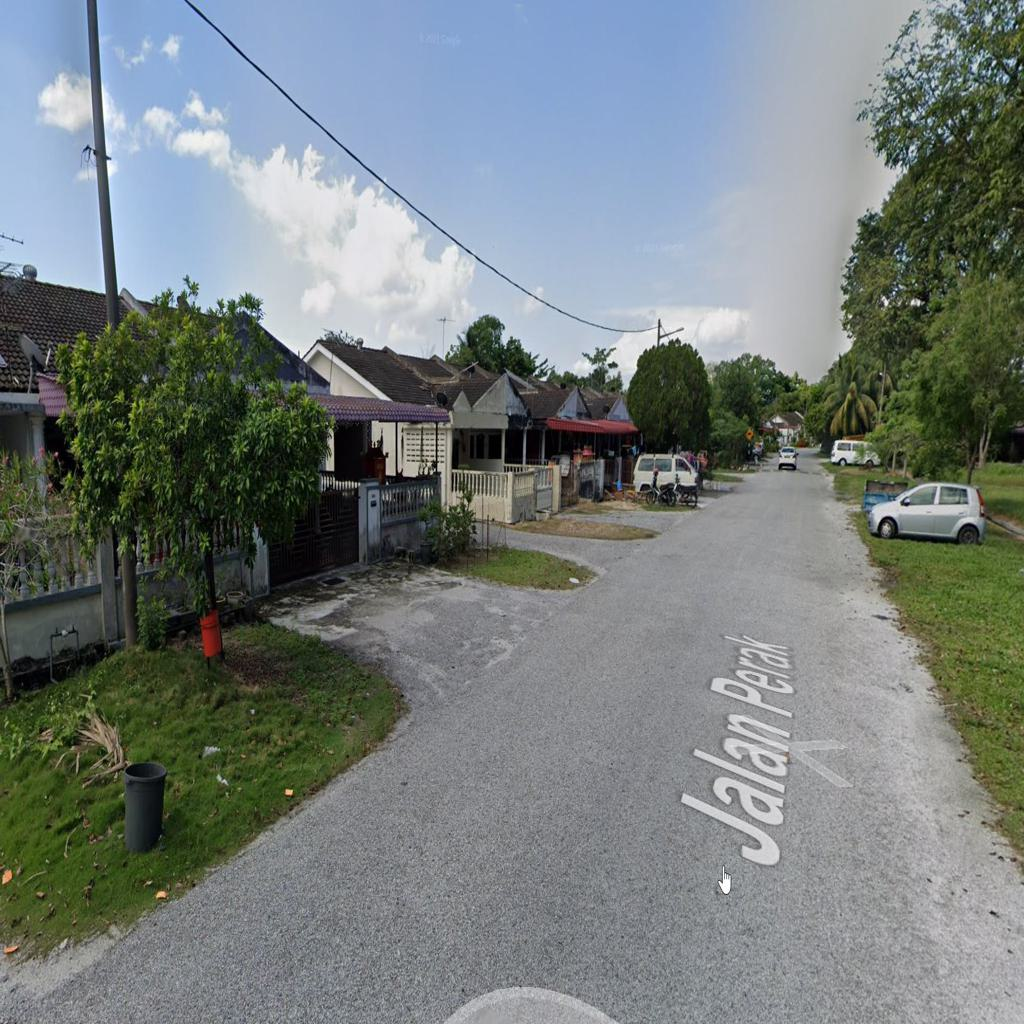Junction: (448, 485, 661, 588)
